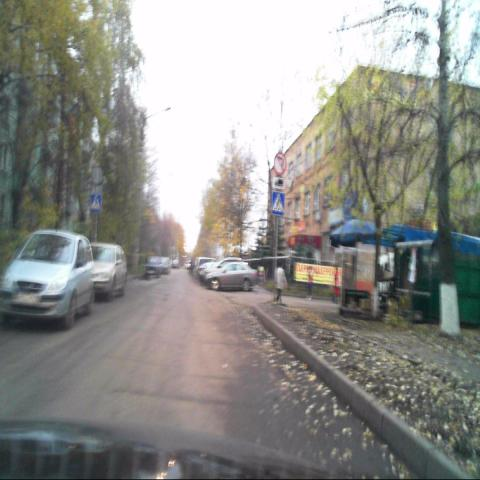3_18_2: (274, 153, 286, 175)
